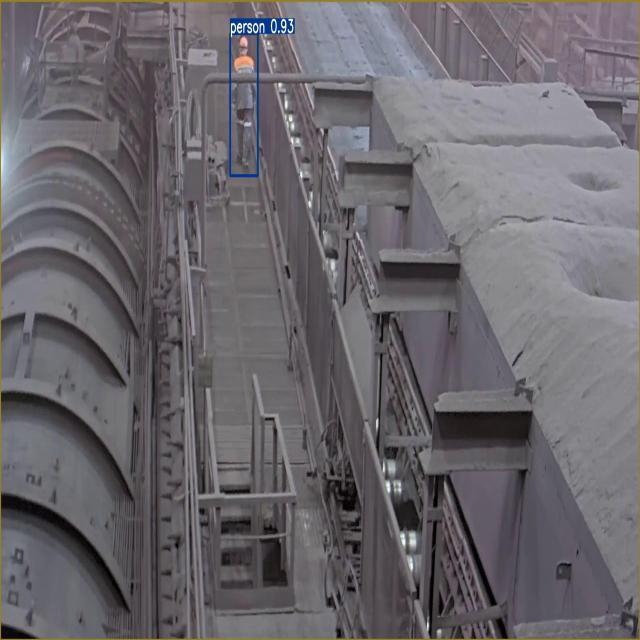safety_helmet: (230, 34, 258, 176)
